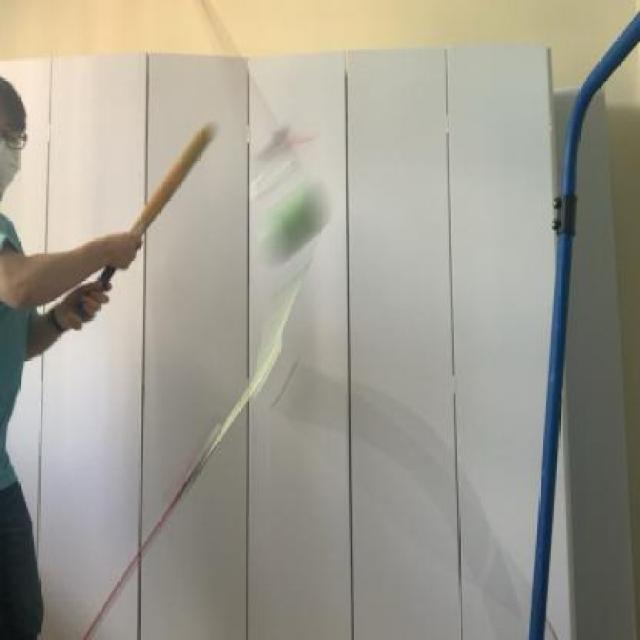baseball: (264, 168, 334, 266)
